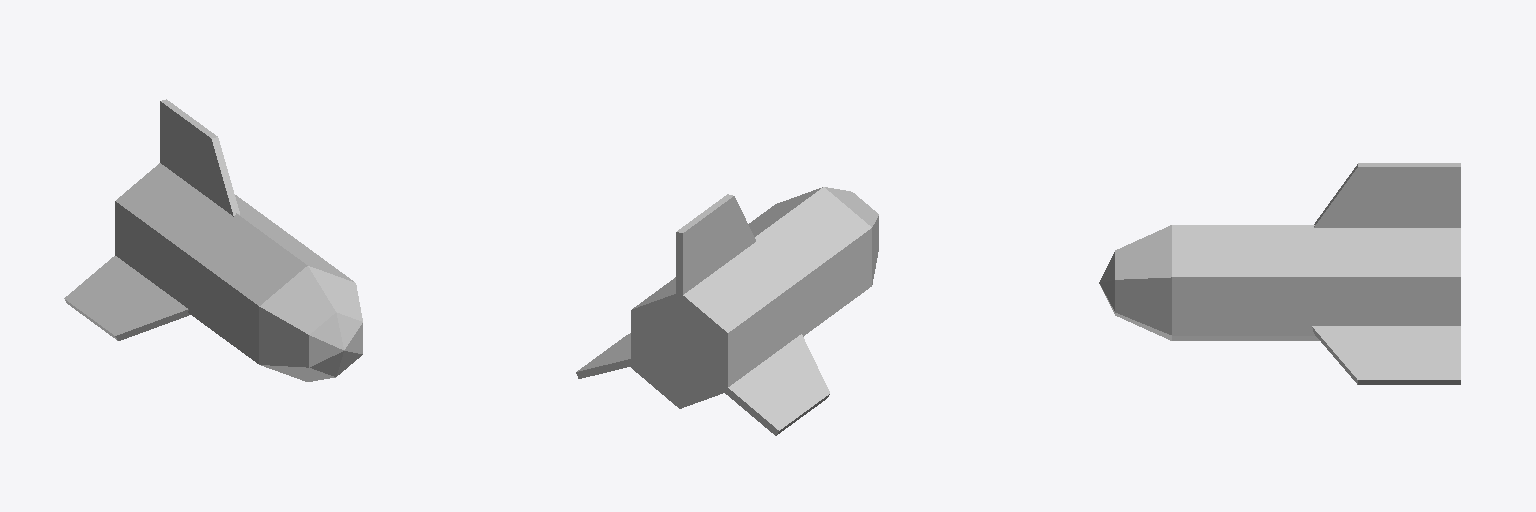
File: missle.obj
3 views of the same model, side by side, from view 1: azimuth 30°, elevation 25°; view 2: azimuth 150°, elevation 25°; view 3: azimuth 270°, elevation 25° (orthographic).
Visible parts, largest first — view 1: Missle; view 2: Missle; view 3: Missle.
Boxes of the visible parts, <box> form: Missle: <box>64,99,362,381</box>; Missle: <box>576,187,878,435</box>; Missle: <box>1099,163,1460,384</box>.
Bounding box in the file's own units: 0.4957 × 0.4201 × 0.764.